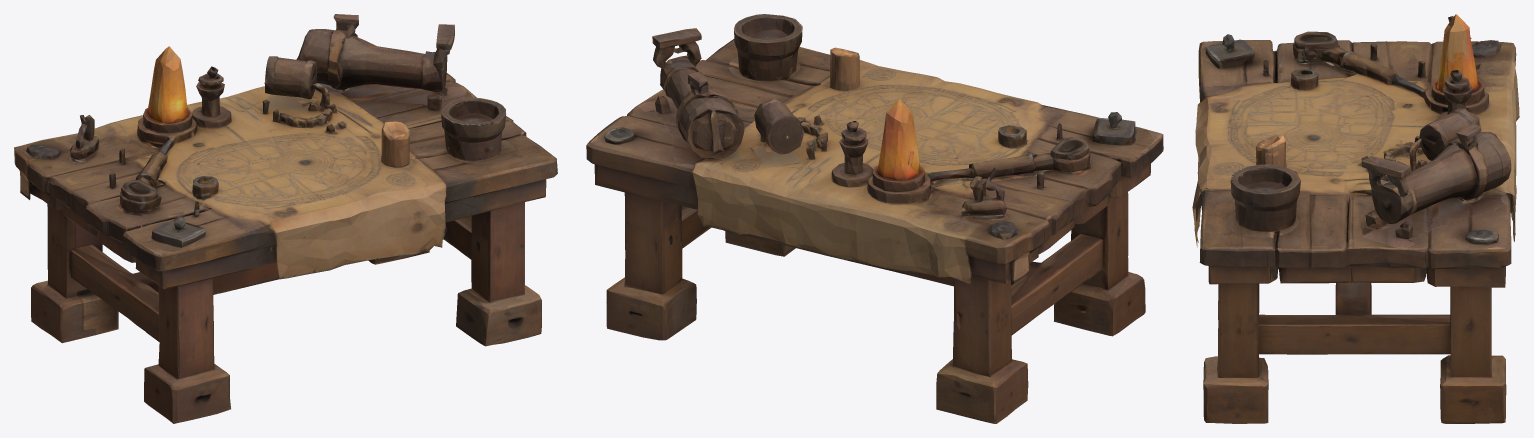
Rendered from Table_with_primitive__0613145336_texture.fbx.
The picture shows the model from 3 angles, left to right: view 1: azimuth 30°, elevation 25°; view 2: azimuth 150°, elevation 25°; view 3: azimuth 270°, elevation 25°; orthographic projection. The views are drawn at different scales.
Visible parts, largest first — view 1: temp; view 2: temp; view 3: temp.
Boxes of the visible parts, <box> form: temp: <box>14,14,557,423</box>; temp: <box>586,14,1163,423</box>; temp: <box>1192,14,1519,423</box>.
Size of the model in its own units: 200 by 123 by 131.
1 material, 1 textured.
